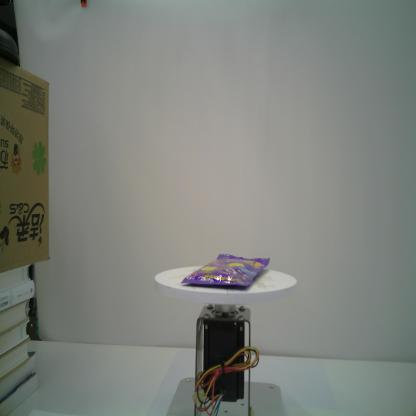Candy: (177, 250, 272, 292)
